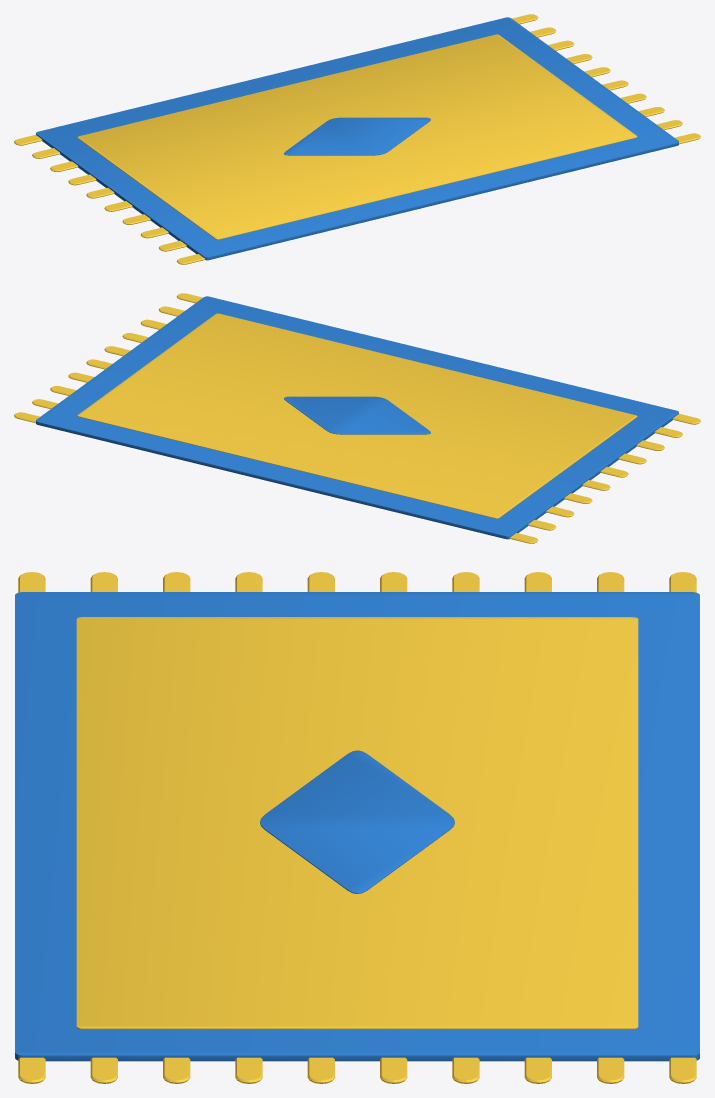
File: tapete_persa_losango_azul.glb
The picture shows the model from 3 angles, top to bottom: view 1: azimuth 30°, elevation 25°; view 2: azimuth 150°, elevation 25°; view 3: azimuth 270°, elevation 25°; orthographic projection. The views are drawn at different scales.
Parts seen in each view (by area): view 1: tapete_persa_losango_azul; view 2: tapete_persa_losango_azul; view 3: tapete_persa_losango_azul.
Boxes of the visible parts, x1,y1,x2,y2 form: tapete_persa_losango_azul: (14, 14, 700, 264); tapete_persa_losango_azul: (14, 293, 700, 543); tapete_persa_losango_azul: (15, 572, 699, 1083).
Size of the model in its own units: 1.76 by 0.0132 by 1.
1 material, 1 textured.
